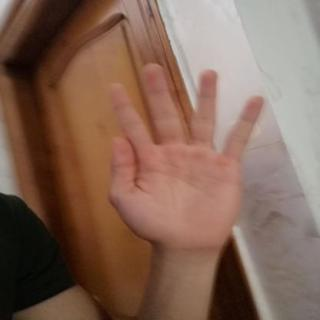SHEEN: (91, 55, 277, 262)
